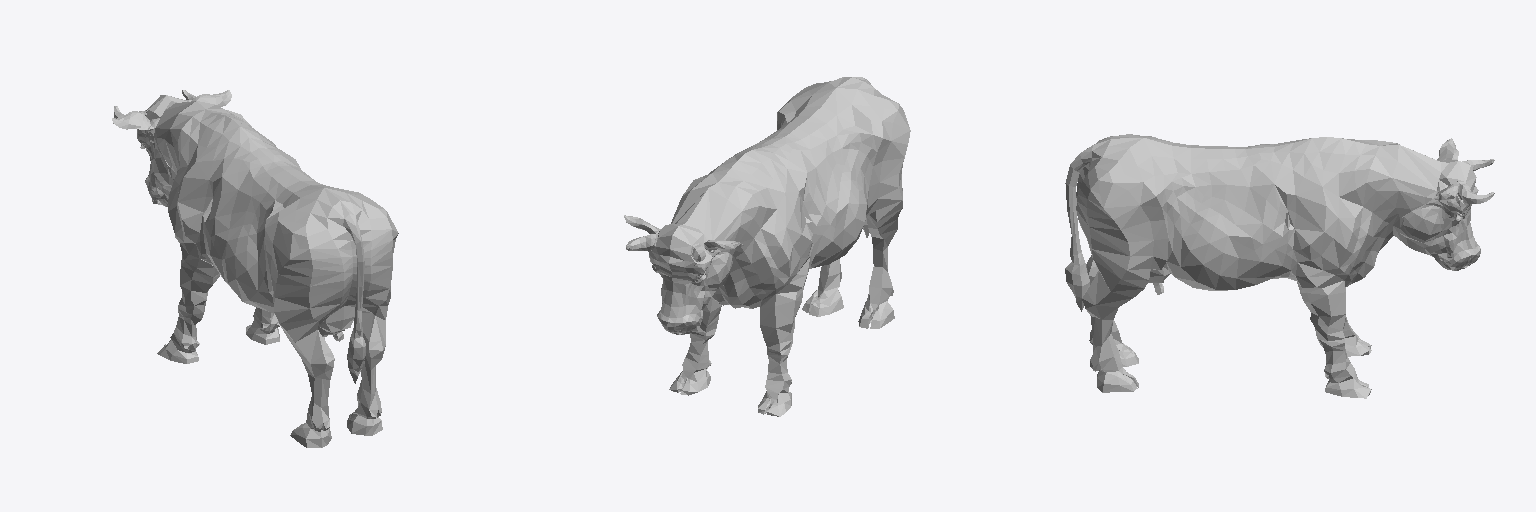
The model's file is frame1.obj.
3 renders of one model, left to right at view 1: azimuth 30°, elevation 25°; view 2: azimuth 150°, elevation 25°; view 3: azimuth 270°, elevation 25°, orthographic.
Parts seen in each view (by area): view 1: frame1:Mesh; view 2: frame1:Mesh; view 3: frame1:Mesh.
Boxes of the visible parts, <box> form: frame1:Mesh: <box>112,90,398,447</box>; frame1:Mesh: <box>624,77,910,416</box>; frame1:Mesh: <box>1065,134,1494,398</box>.
Size of the model in its own units: 3.07 by 5.93 by 9.68.